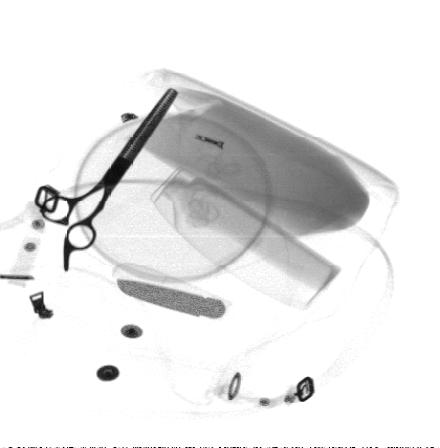Knife: (117, 279, 226, 319)
Scissors: (36, 86, 180, 273)
